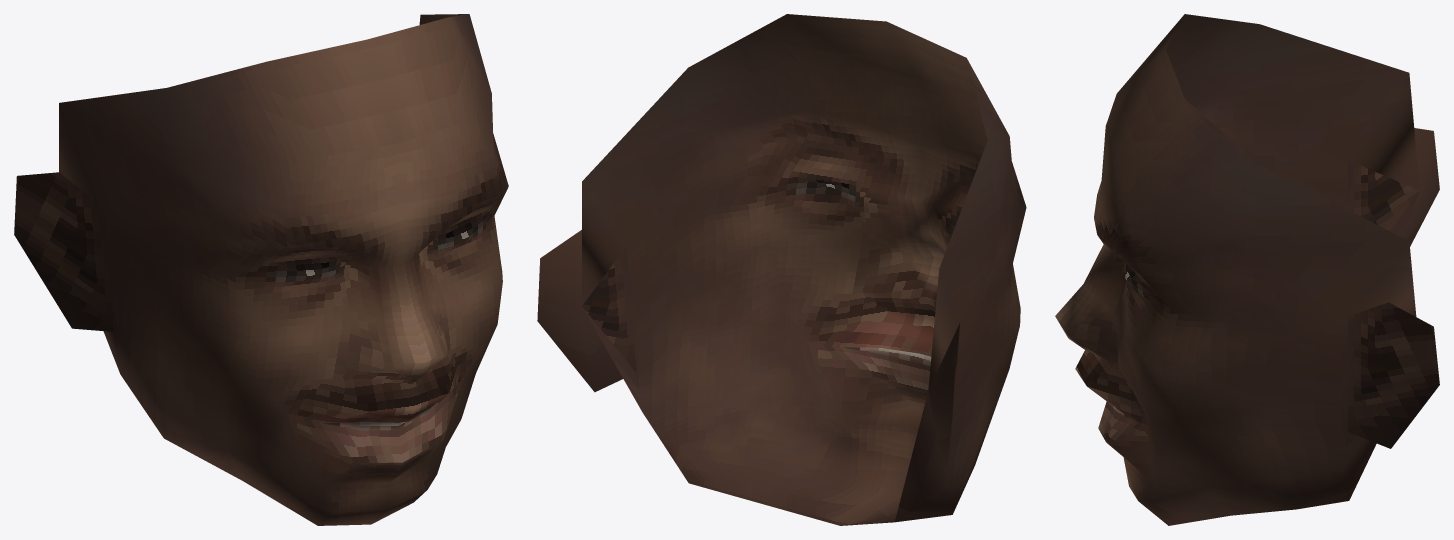
The picture shows the model from 3 angles, left to right: view 1: azimuth 30°, elevation 25°; view 2: azimuth 150°, elevation 25°; view 3: azimuth 270°, elevation 25°; orthographic projection. The views are drawn at different scales.
Parts seen in each view (by area): view 1: editpl_m-0000-152, editpl_m-0000-151; view 2: editpl_m-0000-152, editpl_m-0000-151; view 3: editpl_m-0000-152, editpl_m-0000-151.
Boxes of the visible parts, bbox=[...] form: editpl_m-0000-152: bbox=[14, 14, 508, 415]; editpl_m-0000-151: bbox=[103, 319, 496, 525]; editpl_m-0000-152: bbox=[537, 14, 1026, 477]; editpl_m-0000-151: bbox=[582, 286, 1009, 525]; editpl_m-0000-152: bbox=[1055, 14, 1439, 448]; editpl_m-0000-151: bbox=[1089, 191, 1419, 525].
Bounding box in the file's own units: 17.18 × 18.85 × 14.28.
Materials: 1 (1 with a texture image).
